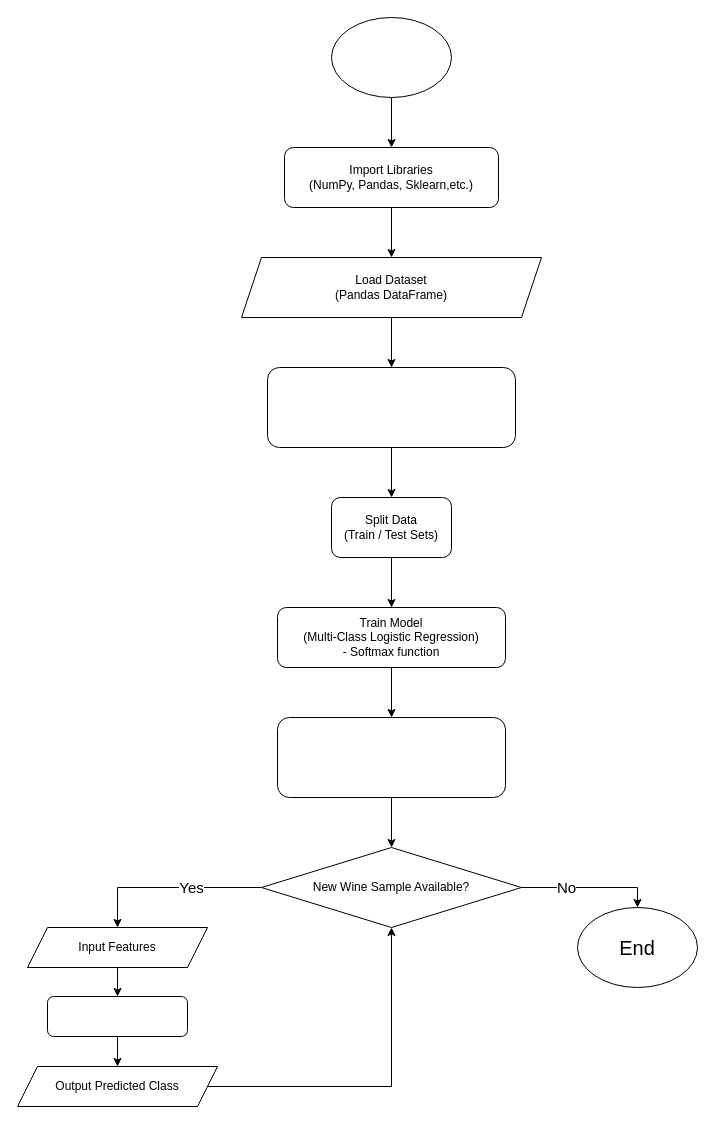
Some shapes in this 715 by 1124 pixel diagram are drawn without their labels. Each missing label, with the centre of its shape:
Evaluate Model - Accuracy - Precision - Recall - Confusion Matrix: point 391,757
Predict Class: point 117,1016
Preprocess Data - Handle Missing Values - Encode Labels - Normalize Features: point 391,407
Start: point 391,57
